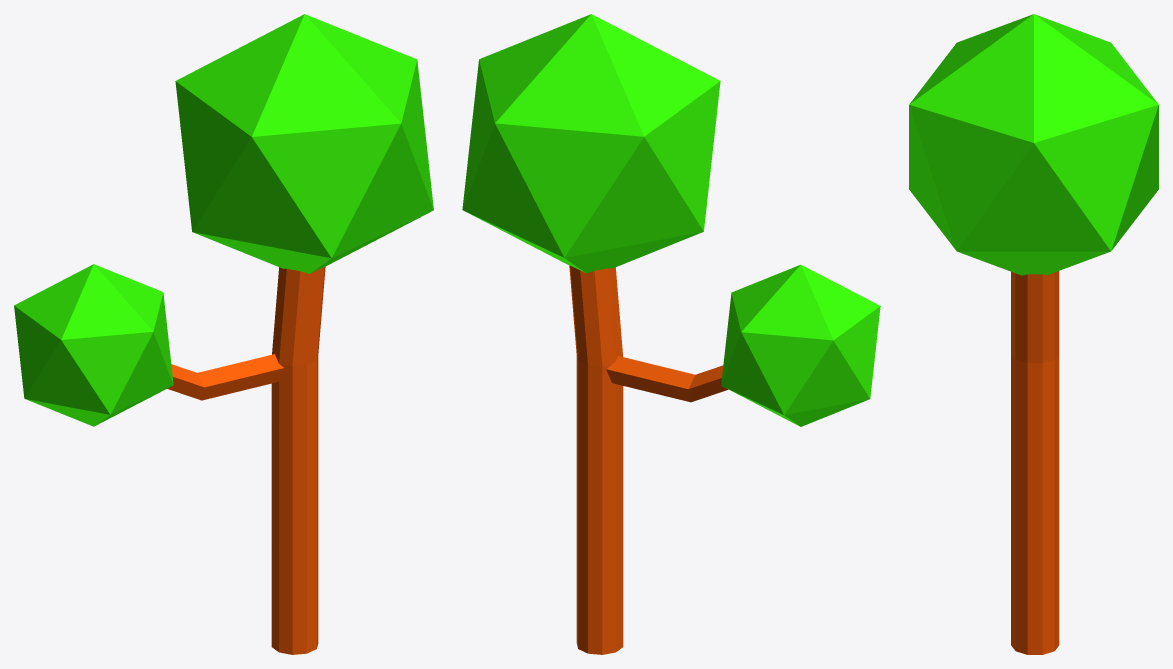
The model's file is Tree_02.fbx.
3 views of the same model, side by side, from view 1: azimuth 30°, elevation 25°; view 2: azimuth 150°, elevation 25°; view 3: azimuth 270°, elevation 25° (orthographic).
Parts seen in each view (by area): view 1: Icosphere, Icosphere.001, Body, Cylinder; view 2: Icosphere, Icosphere.001, Body, Cylinder; view 3: Icosphere, Body.
Part boxes in pixels (x1=…): Icosphere: x1=175, y1=14, x2=433, y2=273; Icosphere.001: x1=14, y1=264, x2=173, y2=426; Body: x1=271, y1=266, x2=325, y2=654; Cylinder: x1=167, y1=354, x2=284, y2=400; Icosphere: x1=462, y1=14, x2=720, y2=273; Icosphere.001: x1=721, y1=264, x2=880, y2=426; Body: x1=569, y1=265, x2=623, y2=654; Cylinder: x1=606, y1=356, x2=728, y2=402; Icosphere: x1=909, y1=14, x2=1158, y2=275; Body: x1=1011, y1=271, x2=1059, y2=654.
Size of the model in its own units: 1895 by 2903 by 1034.
